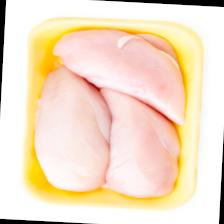chicken: (48, 24, 190, 124), (30, 61, 114, 193), (93, 86, 184, 198)
